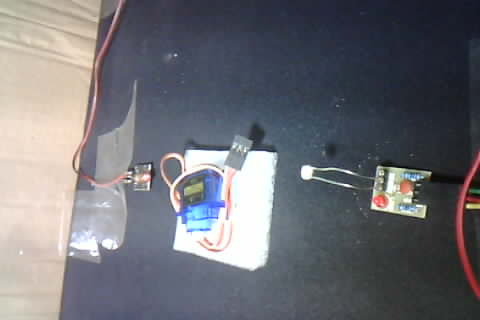motor: (155, 140, 272, 270)
